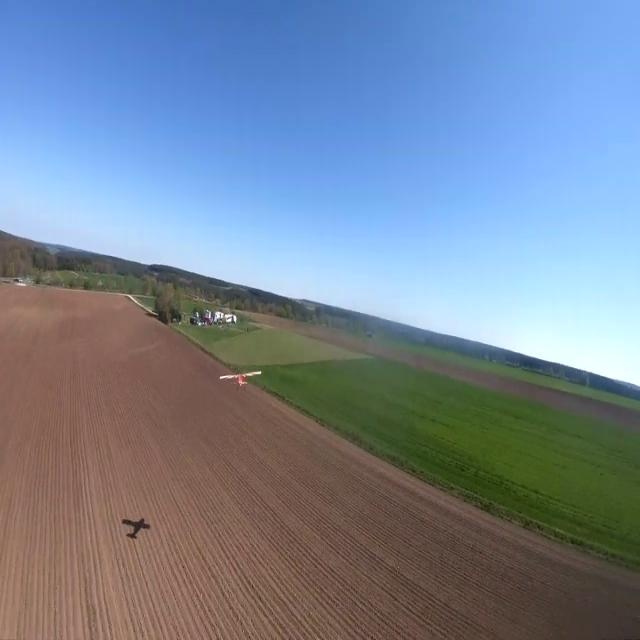iha: (219, 368, 261, 392)
